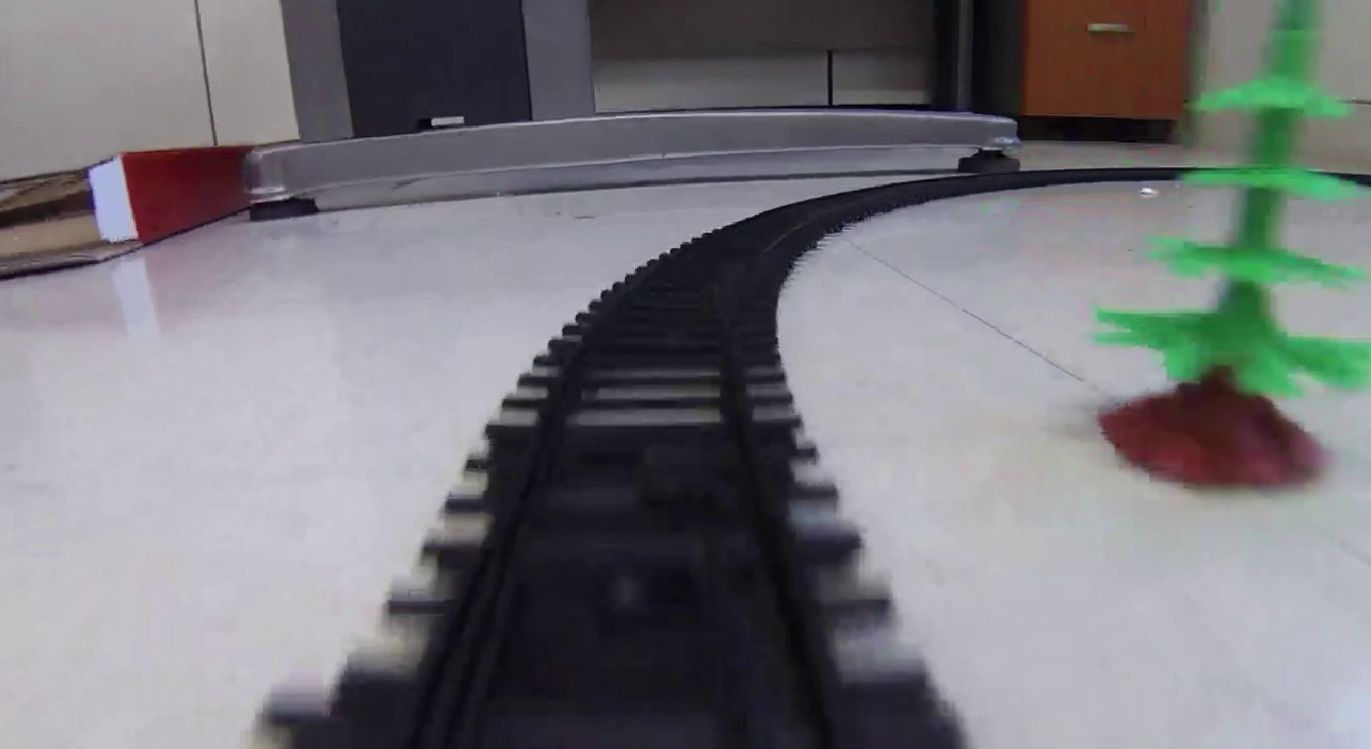tree: (1103, 4, 1371, 493)
